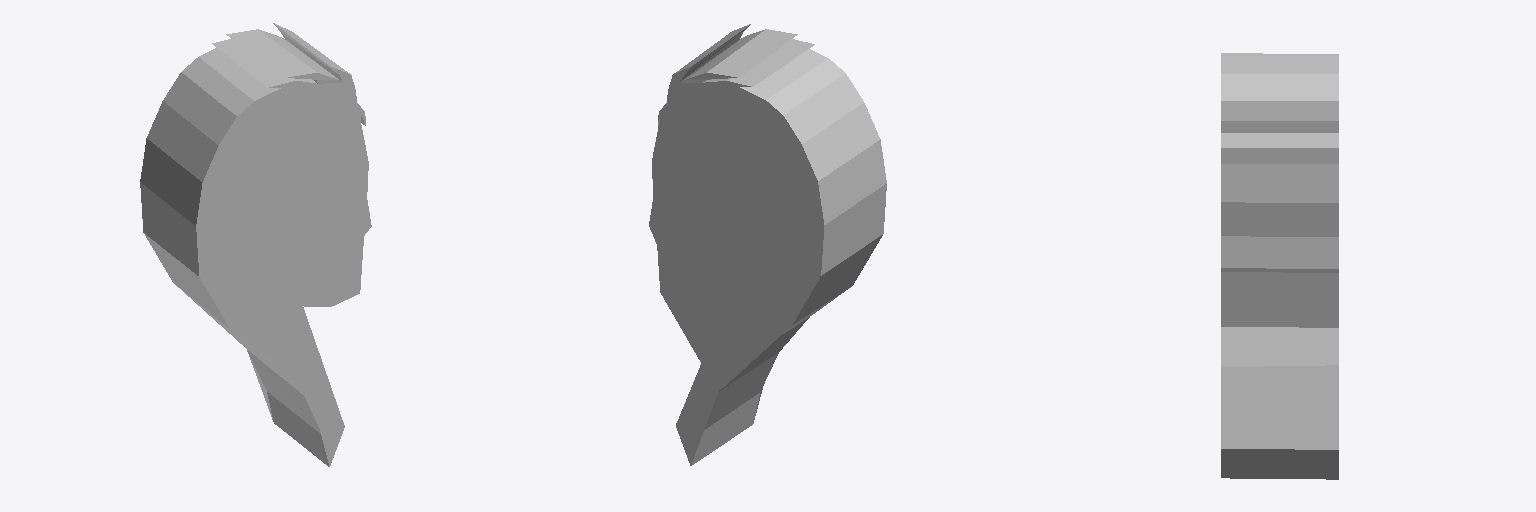
File: ElsaHead.obj
3 renders of one model, left to right at view 1: azimuth 30°, elevation 25°; view 2: azimuth 150°, elevation 25°; view 3: azimuth 270°, elevation 25°, orthographic.
Parts seen in each view (by area): view 1: Cube.001_Cube.000; view 2: Cube.001_Cube.000; view 3: Cube.001_Cube.000.
Boxes of the visible parts, <box> form: Cube.001_Cube.000: <box>140,23,371,466</box>; Cube.001_Cube.000: <box>649,24,886,465</box>; Cube.001_Cube.000: <box>1221,53,1338,479</box>.
Bounding box in the file's own units: 0.471 × 1.01 × 0.2712.